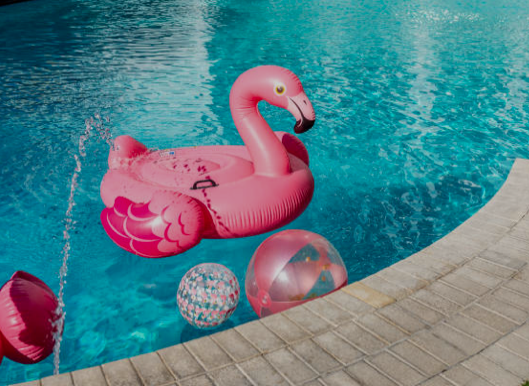Flamingo: (95, 62, 321, 261)
